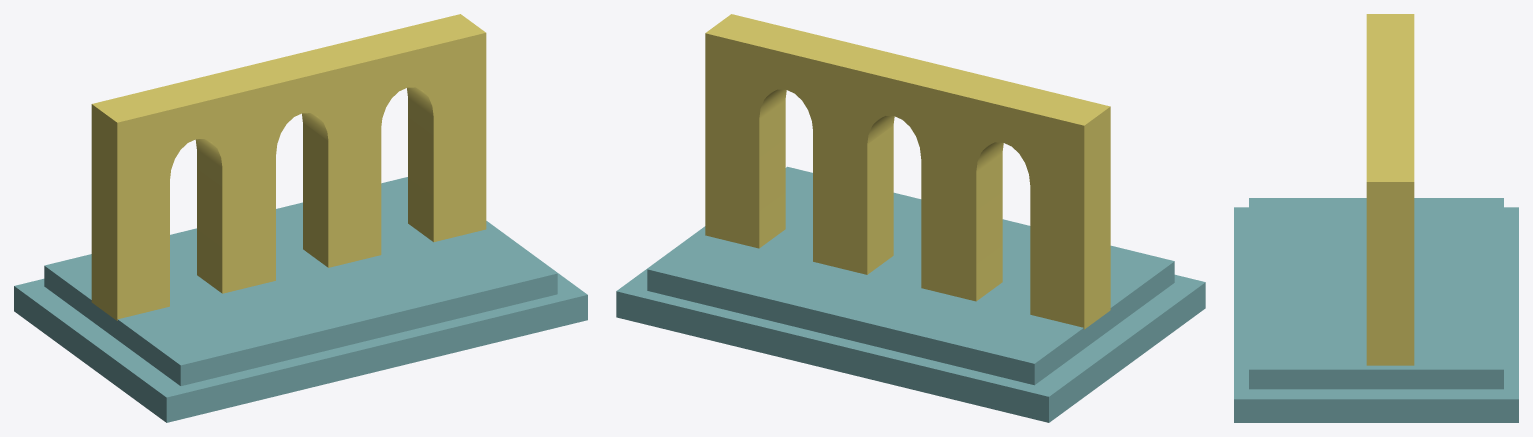
Rendered from Arcos.fbx.
3 views of the same model, side by side, from view 1: azimuth 30°, elevation 25°; view 2: azimuth 150°, elevation 25°; view 3: azimuth 270°, elevation 25° (orthographic). The views are drawn at different scales.
Visible parts, largest first — view 1: pCube6, arco1, arco3, pCube7, arco2; view 2: pCube6, arco3, arco1, pCube7, arco2; view 3: pCube6, pCube7, arco3, arco2, arco1.
Boxes of the visible parts, x1=… form: pCube6: x1=44, y1=177, x2=557, y2=385; arco1: x1=91, y1=65, x2=274, y2=320; arco3: x1=303, y1=14, x2=486, y2=267; pCube7: x1=14, y1=221, x2=587, y2=422; arco2: x1=205, y1=39, x2=381, y2=293; pCube6: x1=647, y1=166, x2=1174, y2=385; arco3: x1=705, y1=14, x2=893, y2=274; arco1: x1=922, y1=67, x2=1110, y2=329; pCube7: x1=616, y1=226, x2=1205, y2=422; arco2: x1=813, y1=40, x2=1000, y2=300; pCube6: x1=1249, y1=198, x2=1503, y2=389; pCube7: x1=1234, y1=207, x2=1518, y2=422; arco3: x1=1366, y1=110, x2=1414, y2=365; arco2: x1=1366, y1=62, x2=1414, y2=134; arco1: x1=1366, y1=14, x2=1414, y2=62.
Size of the model in its own units: 15.6 by 8.6 by 9.78.
